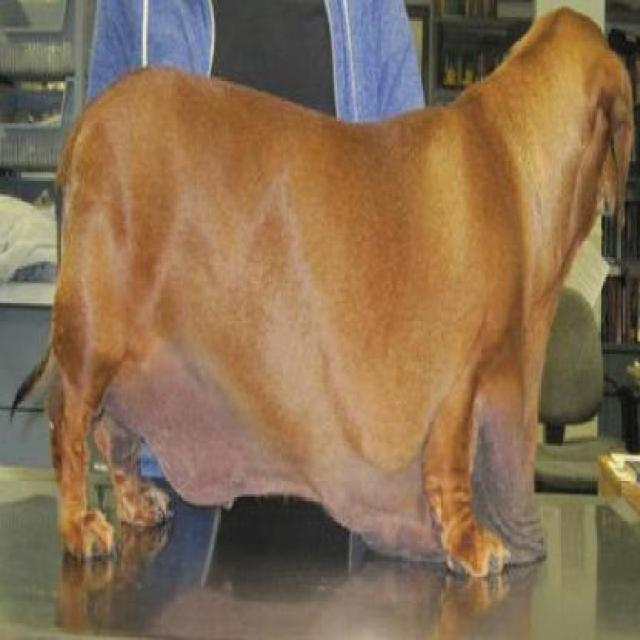Dog: (7, 5, 638, 592)
